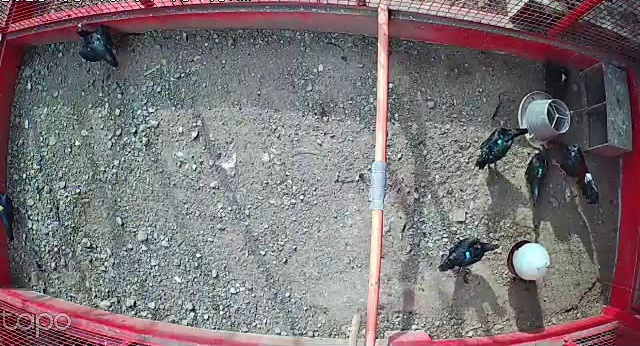Chicken: (72, 17, 124, 72), (473, 119, 528, 169), (436, 233, 502, 271), (517, 143, 551, 207), (544, 62, 572, 111), (559, 72, 568, 80)
Rooster: (548, 134, 602, 205)
Saddle_Color_Blue: (464, 251, 471, 258)
